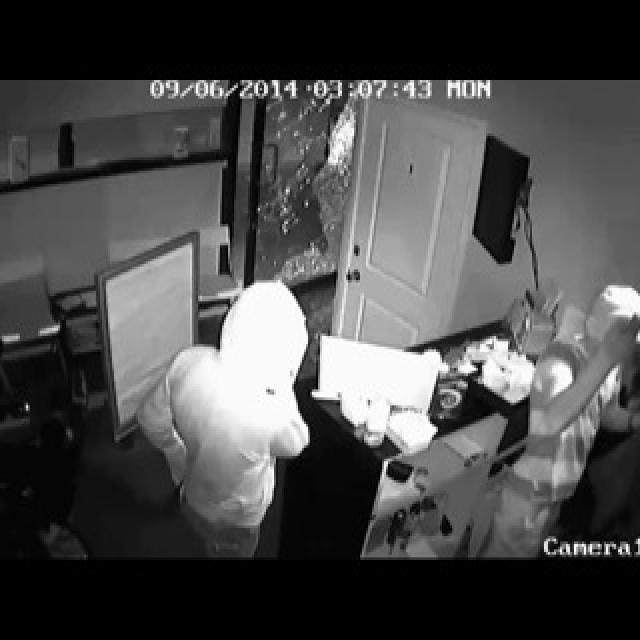thief: (137, 271, 318, 561), (486, 277, 640, 554)
